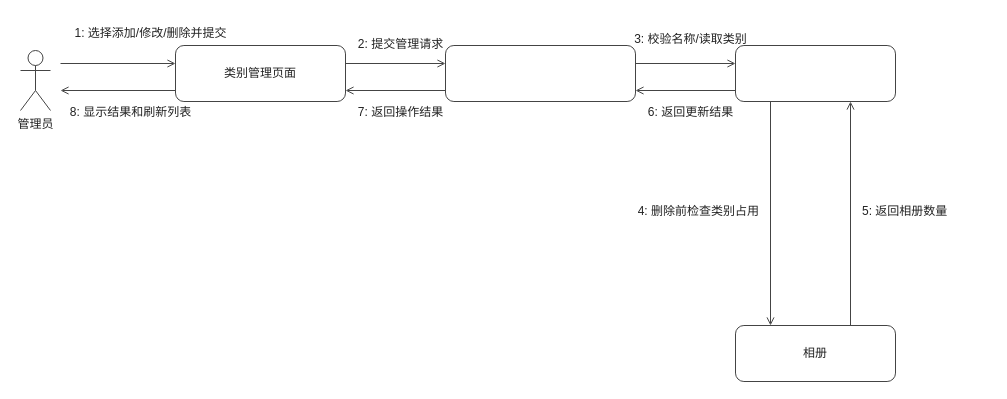
Image size: 1007x399. Some labels were removed from this diagram. Each missing label, with the centre of its shape:
"相册类别" goes at point 815,73.
"类别管理控制器" goes at point 540,73.
